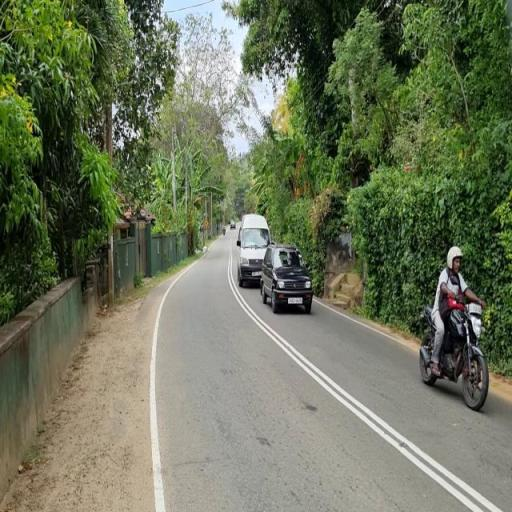double_white_line: (230, 249, 505, 512)
